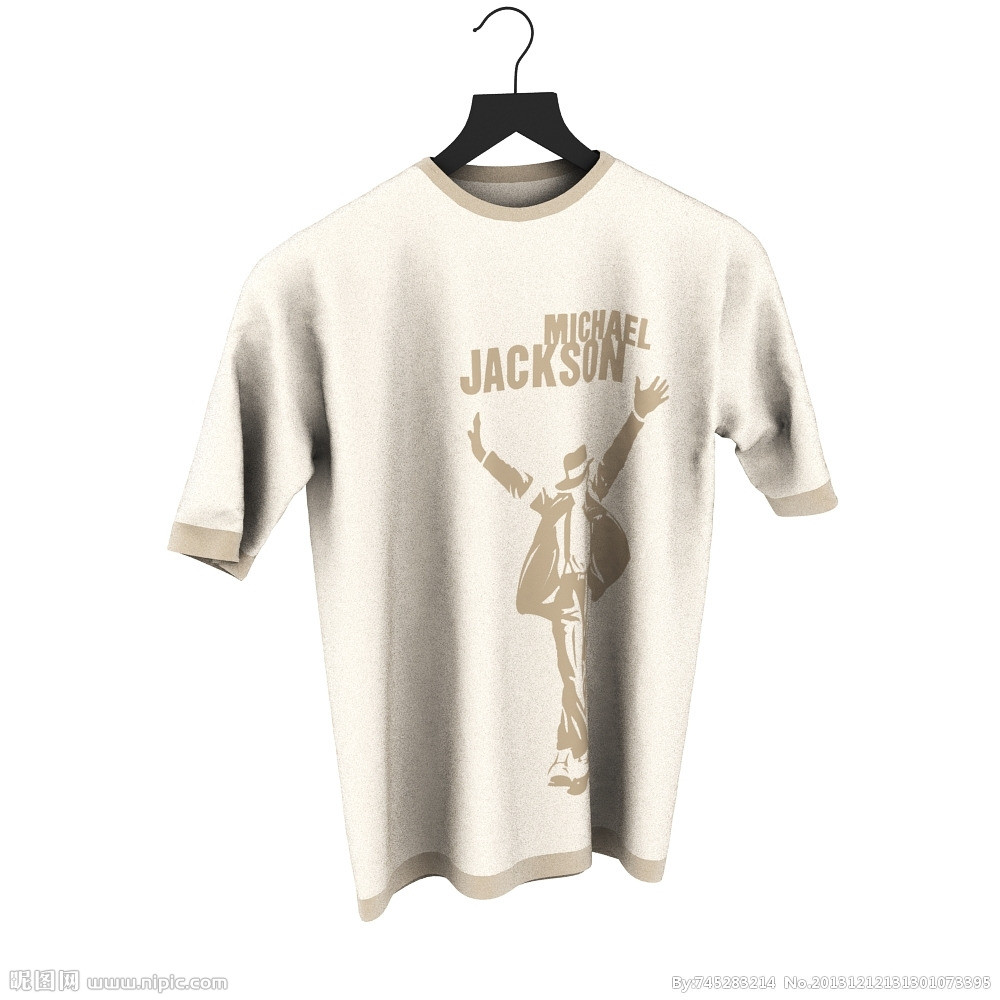flexible: (170, 157, 850, 928)
